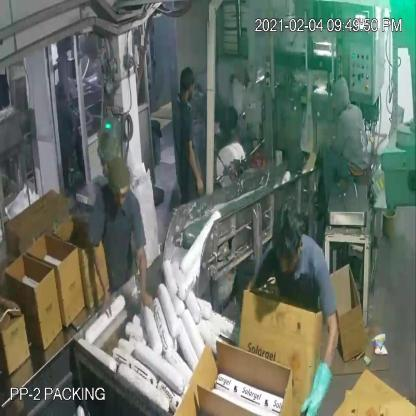glove: (293, 354, 338, 416)
no_glove: (87, 234, 116, 325), (129, 236, 155, 317), (179, 134, 205, 198)
